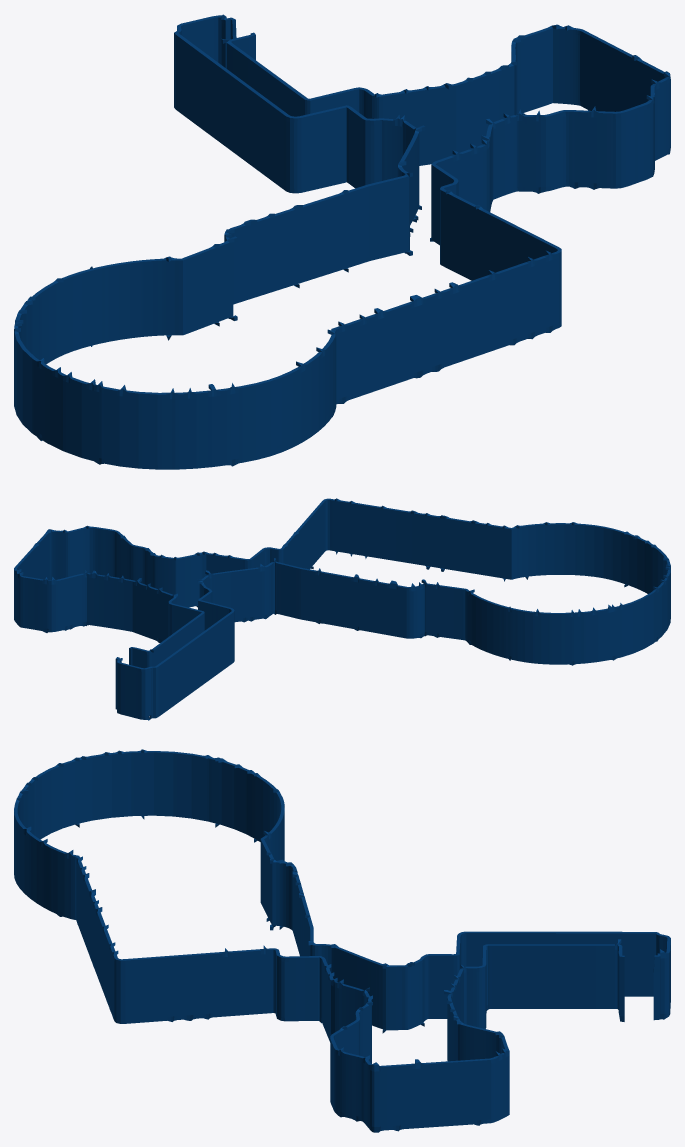
Rendered from topwall.fbx.
The picture shows the model from 3 angles, top to bottom: view 1: azimuth 30°, elevation 25°; view 2: azimuth 150°, elevation 25°; view 3: azimuth 270°, elevation 25°; orthographic projection. The views are drawn at different scales.
Visible parts, largest first — view 1: Tmap; view 2: Tmap; view 3: Tmap.
Boxes of the visible parts, bbox=[...] form: Tmap: bbox=[14, 14, 670, 469]; Tmap: bbox=[14, 498, 670, 720]; Tmap: bbox=[14, 749, 670, 1132].
Bounding box in the file's own units: 214 × 22 × 188.
